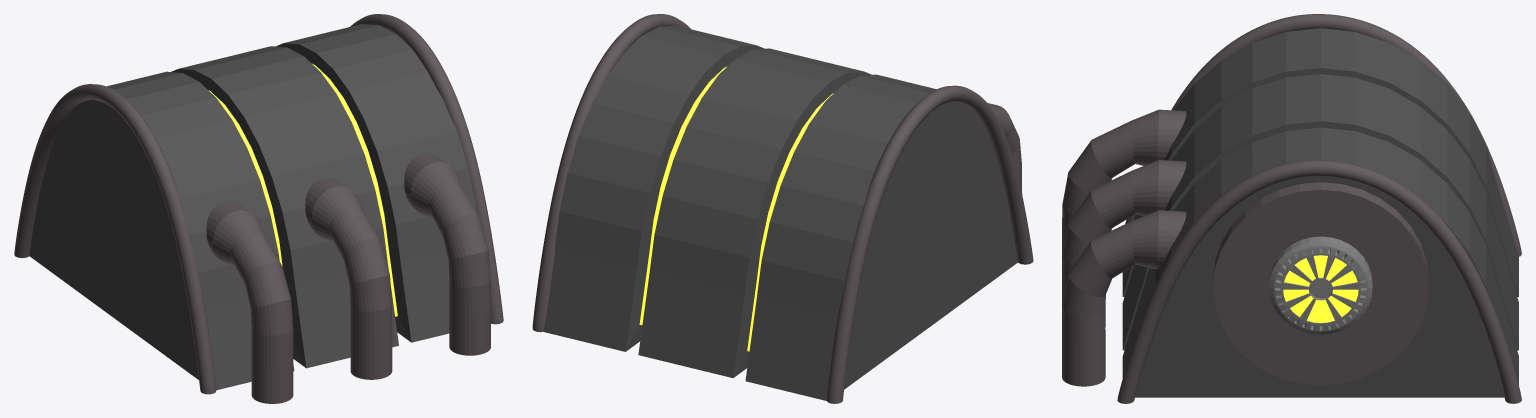
File: FurnaceLevel3.fbx
The picture shows the model from 3 angles, left to right: view 1: azimuth 30°, elevation 25°; view 2: azimuth 150°, elevation 25°; view 3: azimuth 270°, elevation 25°; orthographic projection. The views are drawn at different scales.
Parts seen in each view (by area): view 1: Cylinder, Cylinder.004, Cylinder.003, Cylinder.005, NurbsPath.001, NurbsPath; view 2: Cylinder, NurbsPath.001, NurbsPath, Cylinder.004; view 3: Cylinder, Cylinder.001, NurbsPath, Cylinder.005, Cylinder.002, Cylinder.003, Cylinder.004, NurbsPath.001.
Boxes of the visible parts, x1,y1,x2,y2 form: Cylinder: (29, 24, 476, 390); Cylinder.004: (206, 202, 293, 403); Cylinder.003: (305, 178, 392, 379); Cylinder.005: (404, 154, 490, 355); NurbsPath.001: (14, 84, 216, 394); NurbsPath: (350, 14, 503, 324); Cylinder: (543, 25, 1017, 400); NurbsPath.001: (827, 85, 1033, 403); NurbsPath: (532, 14, 690, 332); Cylinder.004: (987, 103, 1022, 194); Cylinder: (1122, 28, 1518, 397); Cylinder.001: (1213, 182, 1428, 385); NurbsPath: (1117, 160, 1521, 403); Cylinder.005: (1062, 210, 1186, 386); Cylinder.002: (1269, 236, 1372, 334); Cylinder.003: (1062, 160, 1186, 326); Cylinder.004: (1062, 109, 1186, 267); NurbsPath.001: (1125, 14, 1521, 256).
Size of the model in its own units: 1.63 by 1.14 by 1.98.
